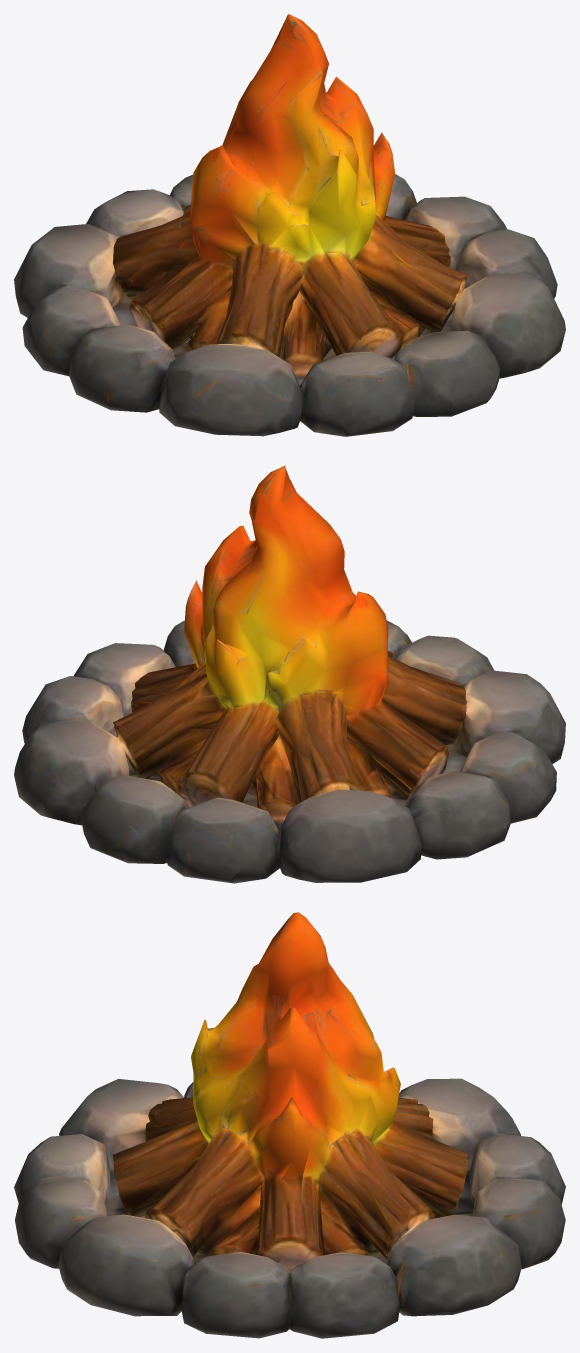
The model's file is campfire.glb.
3 views of the same model, one above another, from view 1: azimuth 30°, elevation 25°; view 2: azimuth 150°, elevation 25°; view 3: azimuth 270°, elevation 25° (orthographic).
Parts seen in each view (by area): view 1: Mesh1.0; view 2: Mesh1.0; view 3: Mesh1.0.
Boxes of the visible parts, <box> form: Mesh1.0: <box>14,14,565,436</box>; Mesh1.0: <box>14,465,565,883</box>; Mesh1.0: <box>14,912,565,1338</box>.
Size of the model in its own units: 1.9 by 1.28 by 1.9.
1 material, 1 textured.
